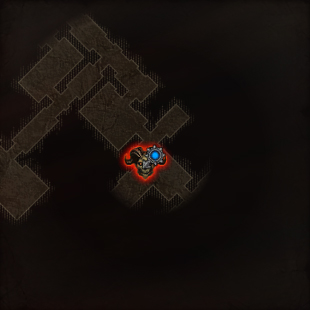Guardian: (122, 145, 168, 180)
